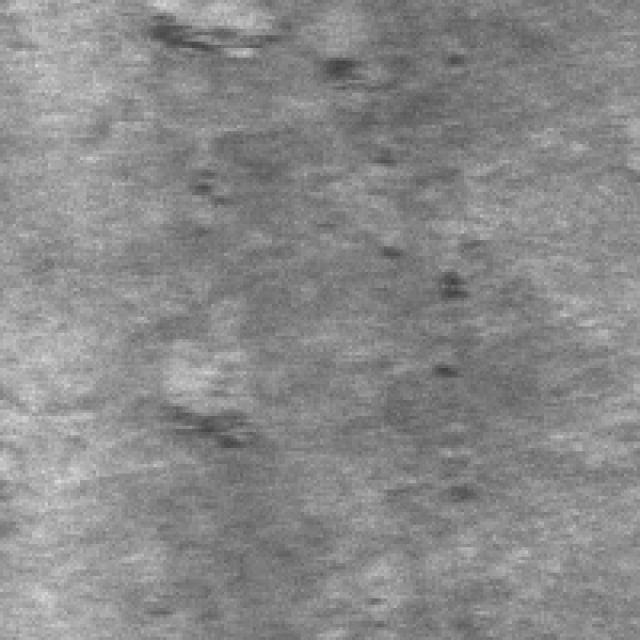rolled-in_scale: (128, 7, 387, 212), (346, 246, 476, 509)
